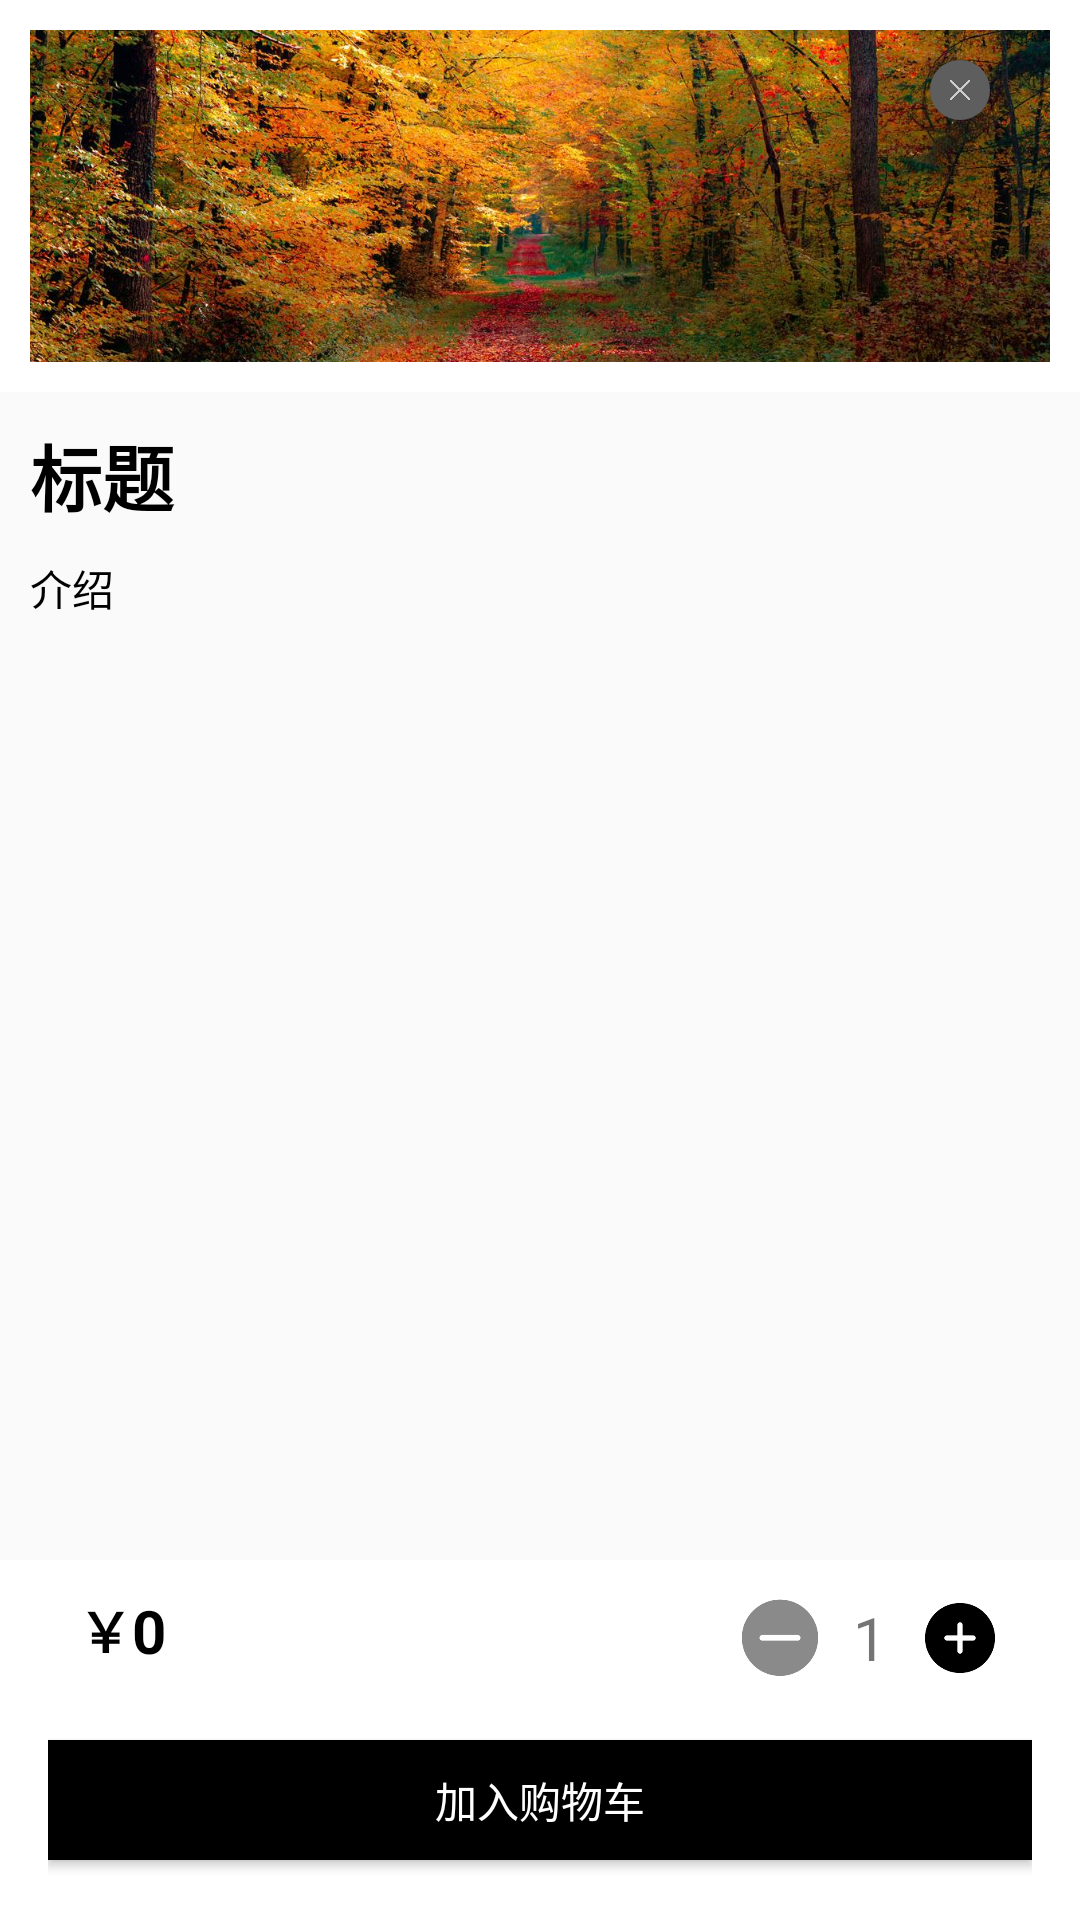

Where to tap for icons on this 1080px×1920px app screen, as [x,y]:
减少: [780,1637]
增加: [960,1638]
